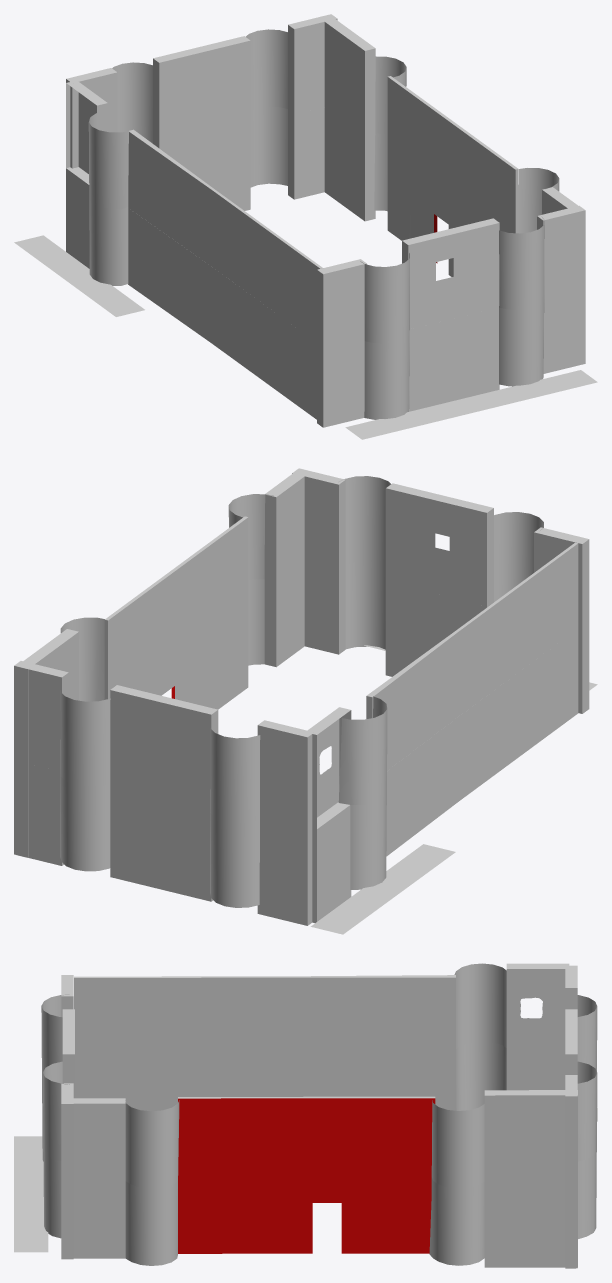
Rendered from PAREDES JANTAR FIXED.fbx.
The picture shows the model from 3 angles, top to bottom: view 1: azimuth 30°, elevation 25°; view 2: azimuth 150°, elevation 25°; view 3: azimuth 270°, elevation 25°; orthographic projection. The views are drawn at different scales.
Visible parts, largest first — view 1: Parede178, Parede154, Parede152, Parede140, Parede177, Parede176, pTorus17, pTorus15, Parede171, Parede172, pTorus18, pTorus20 (+19 smaller); view 2: Parede178, Parede177, Parede152, Parede154, Parede140, Parede141, pTorus20, pTorus19, pTorus18, pTorus15, Parede171, Parede167 (+21 smaller); view 3: Parede178, Parede167, Parede152, Parede171, Parede140, pTorus21, Parede156, Parede144, Parede172, pTorus18, Parede165, Parede159 (+17 smaller).
Part boxes in pixels (x1,y1,x2,y2): Parede178: [387, 76, 518, 233]; Parede154: [153, 36, 250, 147]; Parede152: [211, 189, 322, 342]; Parede140: [211, 266, 316, 419]; Parede177: [402, 218, 499, 328]; Parede176: [409, 307, 499, 411]; pTorus17: [360, 253, 409, 419]; pTorus15: [499, 217, 544, 386]; Parede171: [128, 129, 213, 265]; Parede172: [128, 208, 211, 342]; pTorus18: [88, 113, 128, 285]; pTorus20: [246, 29, 287, 187]; Parede178: [104, 516, 248, 699]; Parede177: [385, 483, 493, 606]; Parede152: [456, 542, 578, 715]; Parede154: [110, 685, 218, 807]; Parede140: [459, 628, 578, 800]; Parede141: [110, 783, 213, 901]; pTorus20: [60, 690, 110, 871]; pTorus19: [210, 728, 260, 907]; pTorus18: [338, 696, 387, 889]; pTorus15: [338, 476, 390, 649]; Parede171: [366, 630, 459, 770]; Parede167: [131, 603, 248, 709]; Parede178: [178, 1096, 435, 1176]; Parede167: [178, 1176, 431, 1253]; Parede152: [74, 976, 292, 1055]; Parede171: [293, 975, 455, 1055]; Parede140: [75, 1055, 292, 1111]; pTorus21: [429, 1100, 484, 1265]; Parede156: [484, 1090, 577, 1181]; Parede144: [484, 1181, 577, 1267]; Parede172: [293, 1055, 455, 1110]; pTorus18: [454, 963, 506, 1110]; Parede165: [506, 963, 569, 1054]; Parede159: [63, 1098, 125, 1181].
Size of the model in its own units: 12.91 by 6.56 by 20.16.
